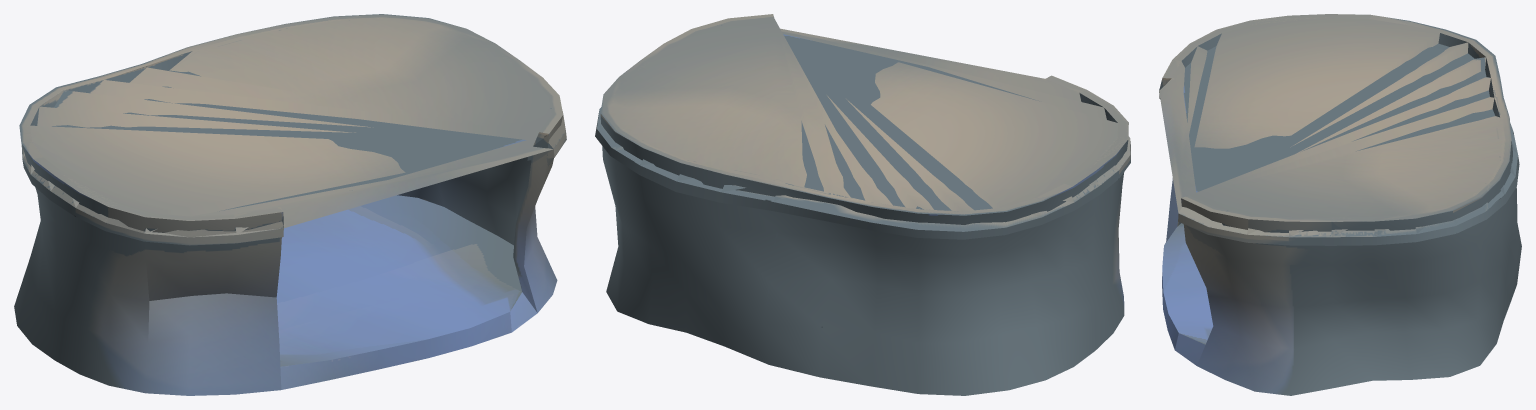
The model's file is jar2.fbx.
3 renders of one model, left to right at view 1: azimuth 30°, elevation 25°; view 2: azimuth 150°, elevation 25°; view 3: azimuth 270°, elevation 25°, orthographic. The views are drawn at different scales.
Parts seen in each view (by area): view 1: jar2; view 2: jar2; view 3: jar2.
Boxes of the visible parts, left/top/right/bottom form: jar2: left=14, top=14, right=566, bottom=395; jar2: left=595, top=14, right=1130, bottom=395; jar2: left=1159, top=14, right=1521, bottom=395.
Size of the model in its own units: 145 by 54.96 by 105.
